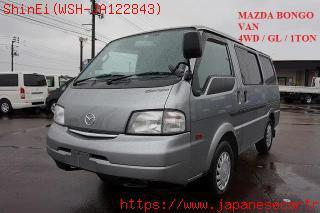Van: (47, 26, 283, 183)
